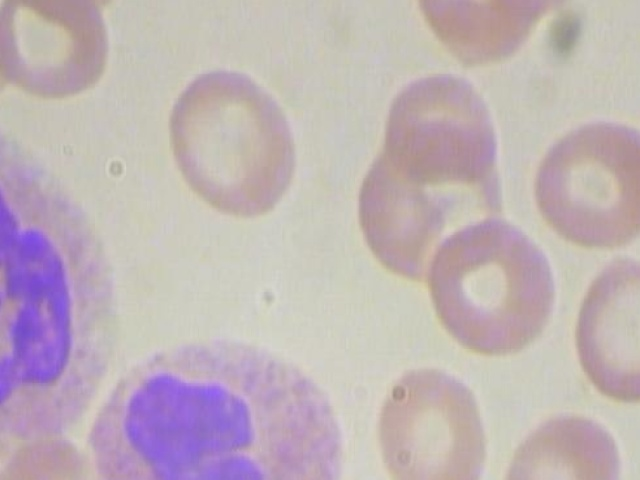RBC: (157, 61, 311, 231), (347, 347, 501, 480), (373, 53, 512, 193), (415, 214, 553, 354), (528, 107, 640, 250), (0, 0, 121, 106), (566, 246, 640, 418), (475, 399, 629, 480), (408, 0, 547, 69)
WBC: (0, 104, 127, 465), (84, 328, 370, 480)
